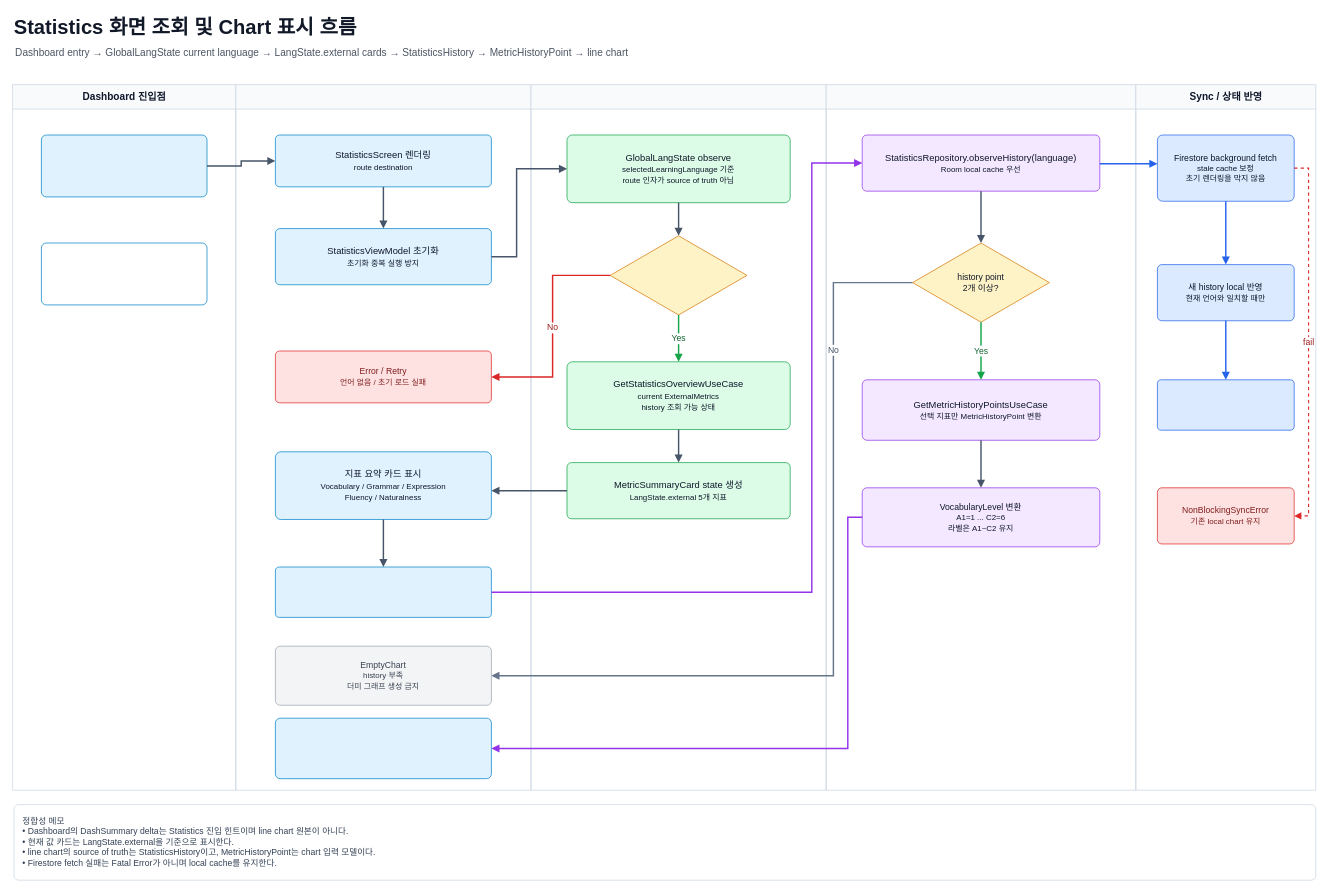
Image size: 1328x893. Some labels were removed from this diagram. The shapes that lost their labels are listed below. From the top down, each one's box as (x1, y1, x2, y2) in pixels, then its label:
(41, 134, 207, 197): 언어 성취율 카드 클릭 DASH-005 Statistics 진입점만 담당
(41, 242, 207, 305): DashSummary delta Dashboard 표시용 그래프 원본 아님
(609, 235, 747, 315): 언어 컨텍스트 있음?
(1157, 379, 1294, 430): chart 재계산 신호 선택 지표 기준 갱신
(235, 84, 531, 790): Statistics 화면 / ViewModel
(530, 84, 826, 790): Global State / UseCase
(825, 84, 1136, 790): StatisticsRepository / History
(275, 566, 491, 617): 지표 카드 클릭 selectedMetric 갱신
(275, 717, 491, 779): MetricLineChart 표시 chart는 변환된 points만 입력받음
